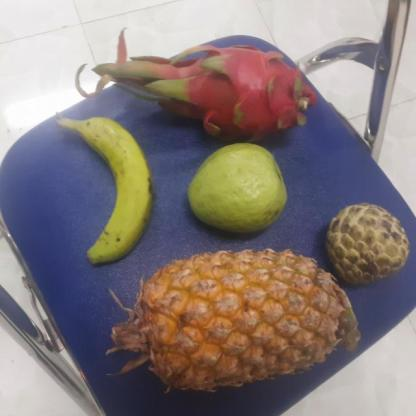annona: (318, 204, 409, 286)
banana: (64, 119, 153, 260)
guava: (183, 144, 287, 233)
pineapple: (112, 250, 350, 382)
pitaya: (174, 42, 310, 142)
